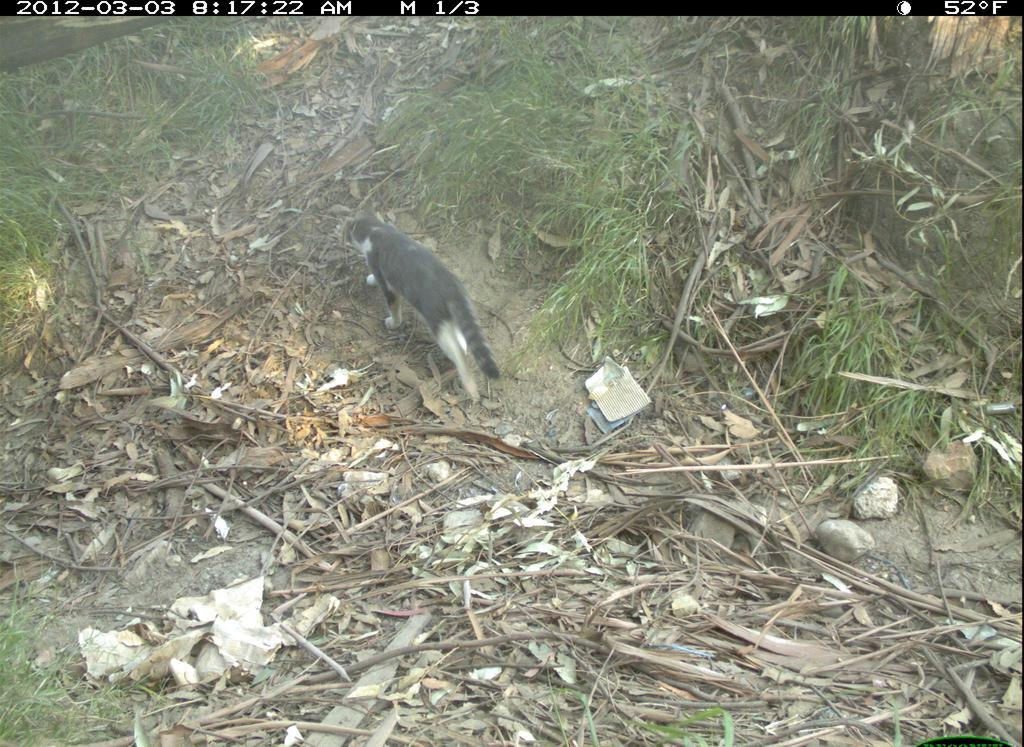cat: (336, 212, 505, 410)
